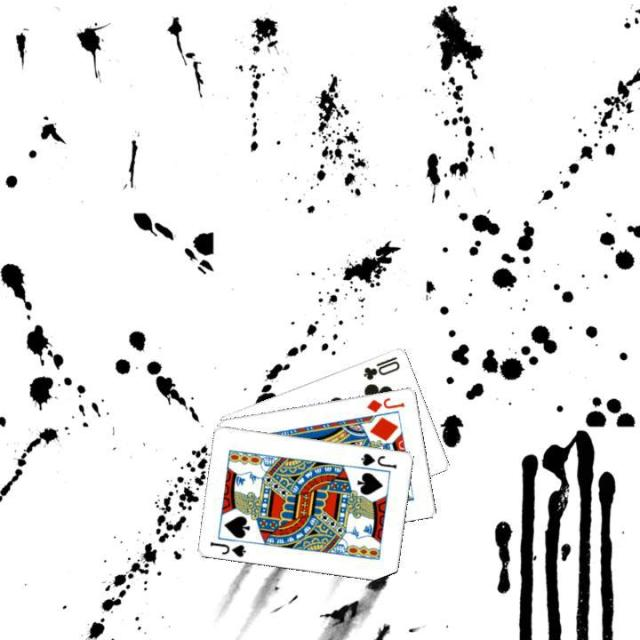10C: (359, 352, 402, 381)
JD: (363, 394, 406, 414)
JS: (358, 449, 398, 470), (206, 538, 248, 558)
